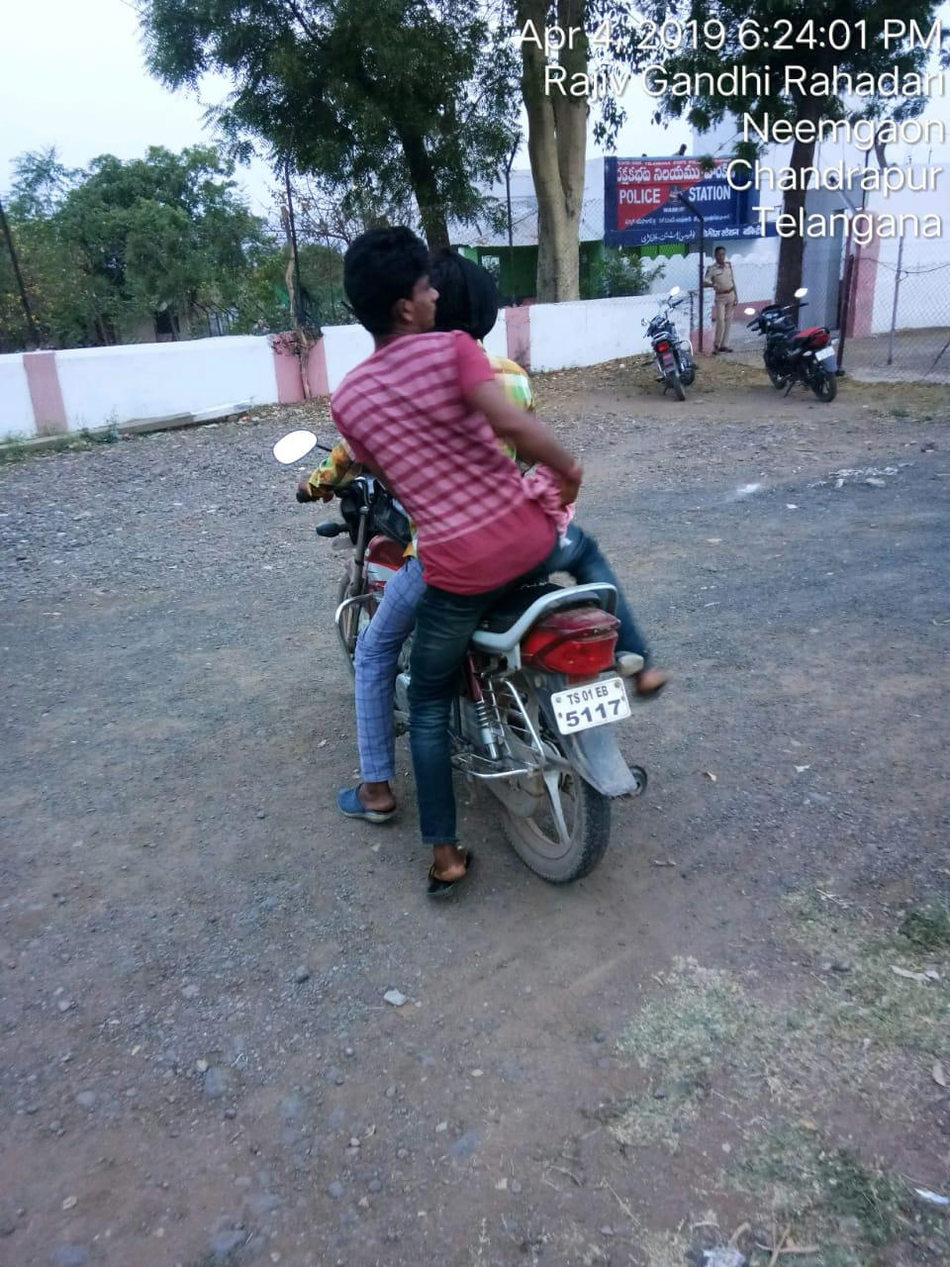plate: (534, 657, 649, 749)
